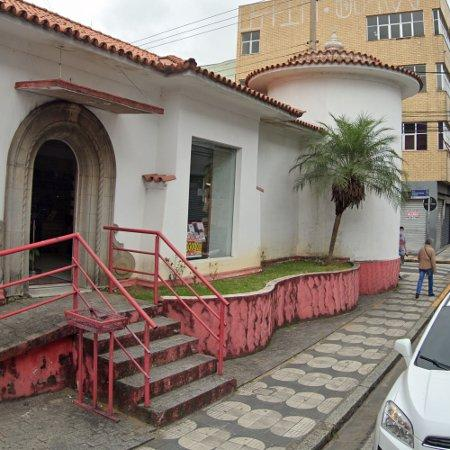stairs: (57, 235, 236, 427)
